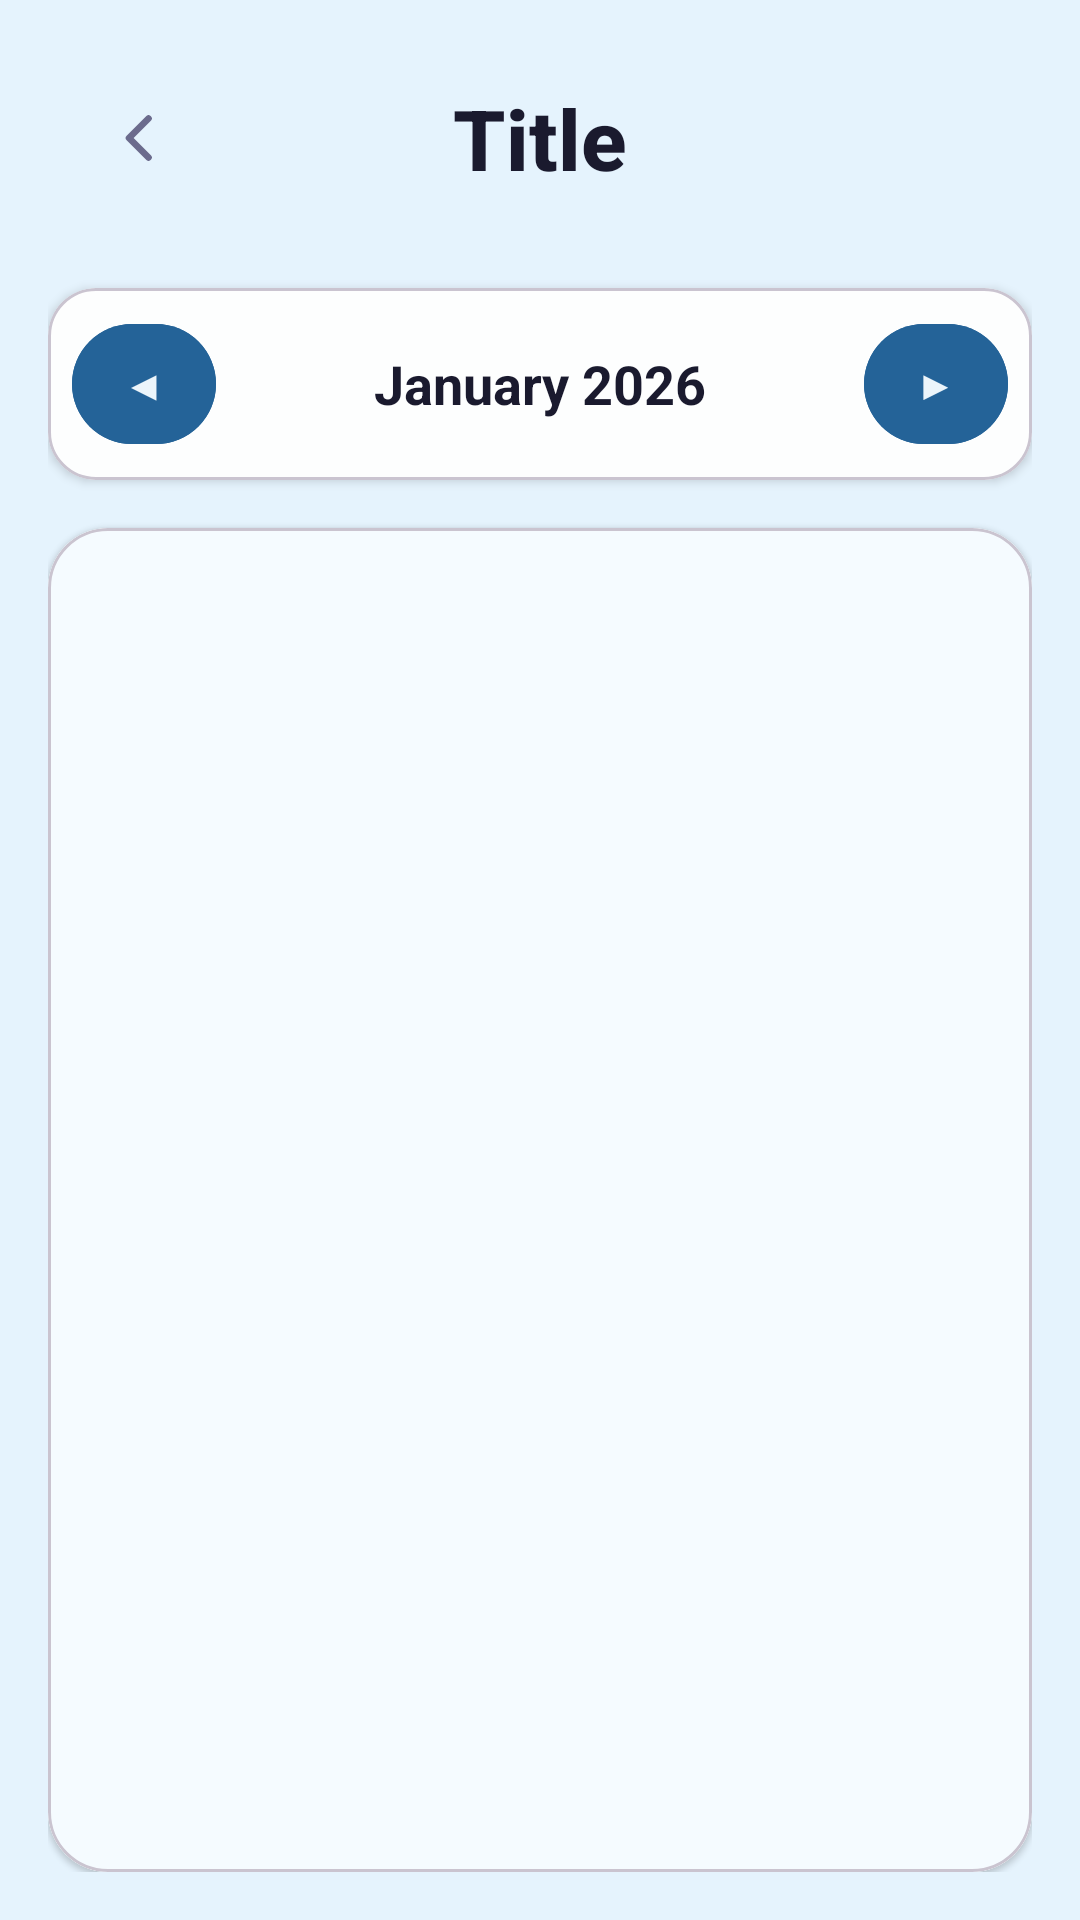

Screen size 1080px×1920px. Icon name, then its center in pixels as [x,y]:
Back: [138,138]
